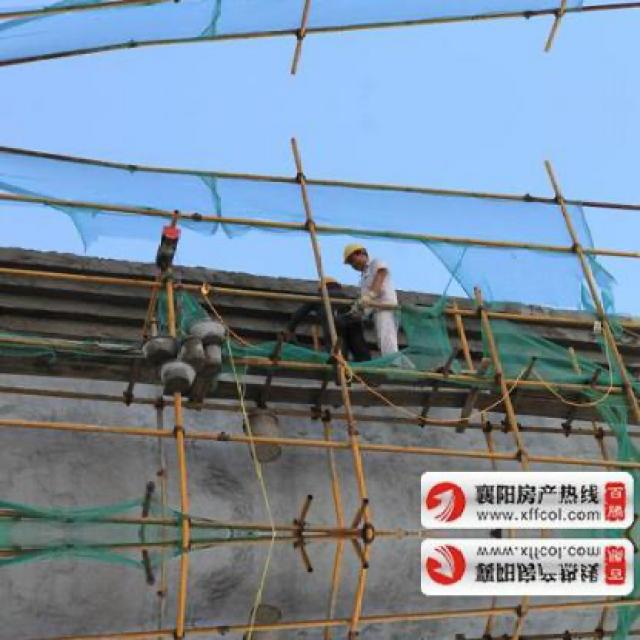helmet: (342, 240, 369, 268), (316, 270, 342, 294)
